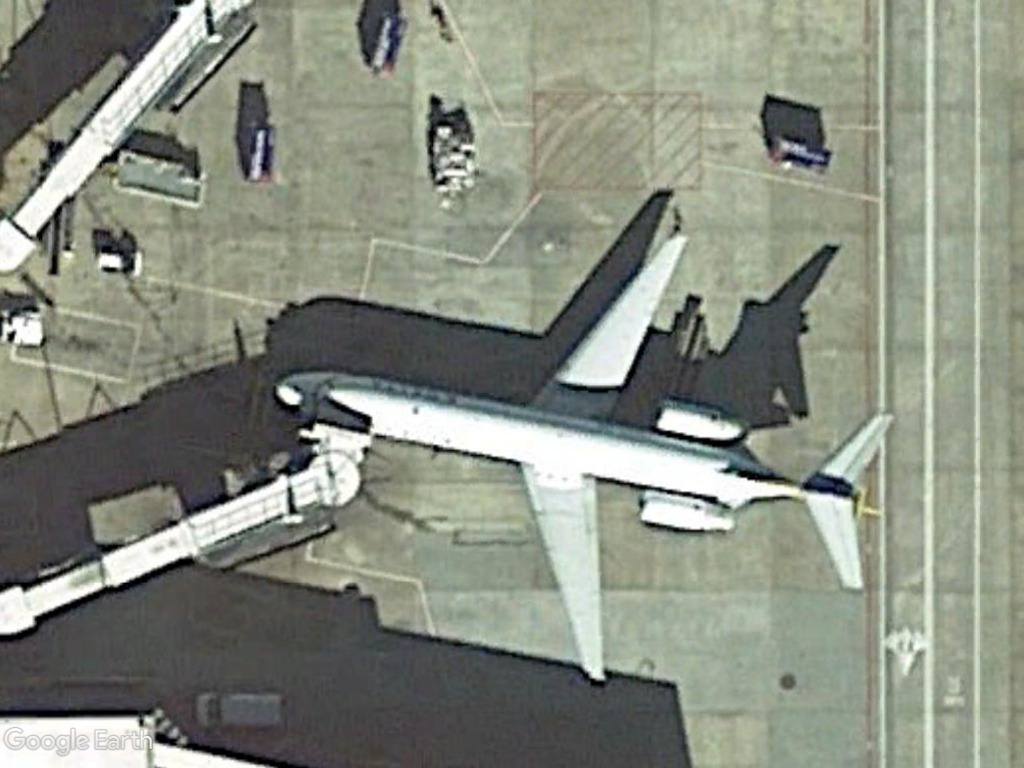chartered: (261, 216, 899, 687)
